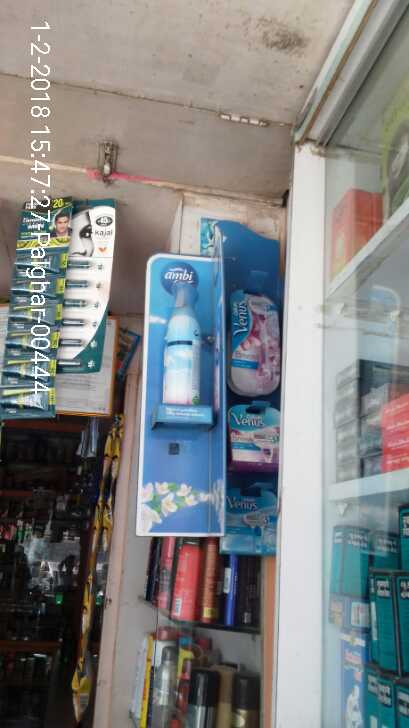beauty: (227, 287, 281, 401), (219, 491, 276, 556), (231, 405, 277, 466)
home: (159, 279, 198, 406)
